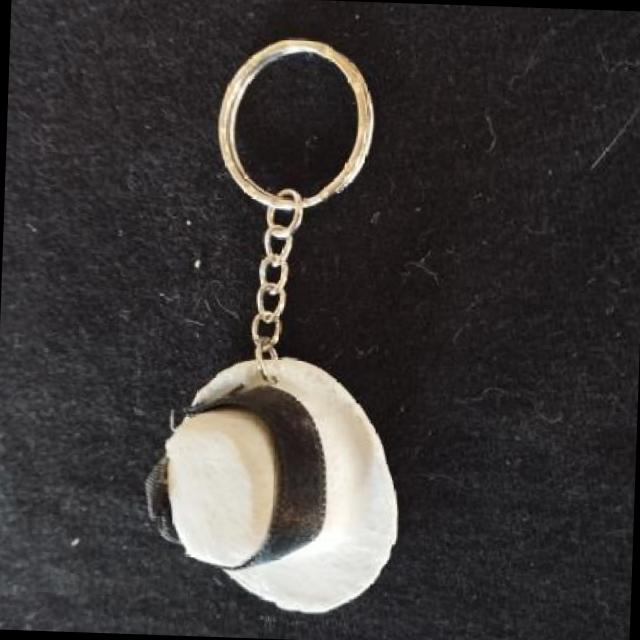Llavero: (140, 350, 406, 618)
